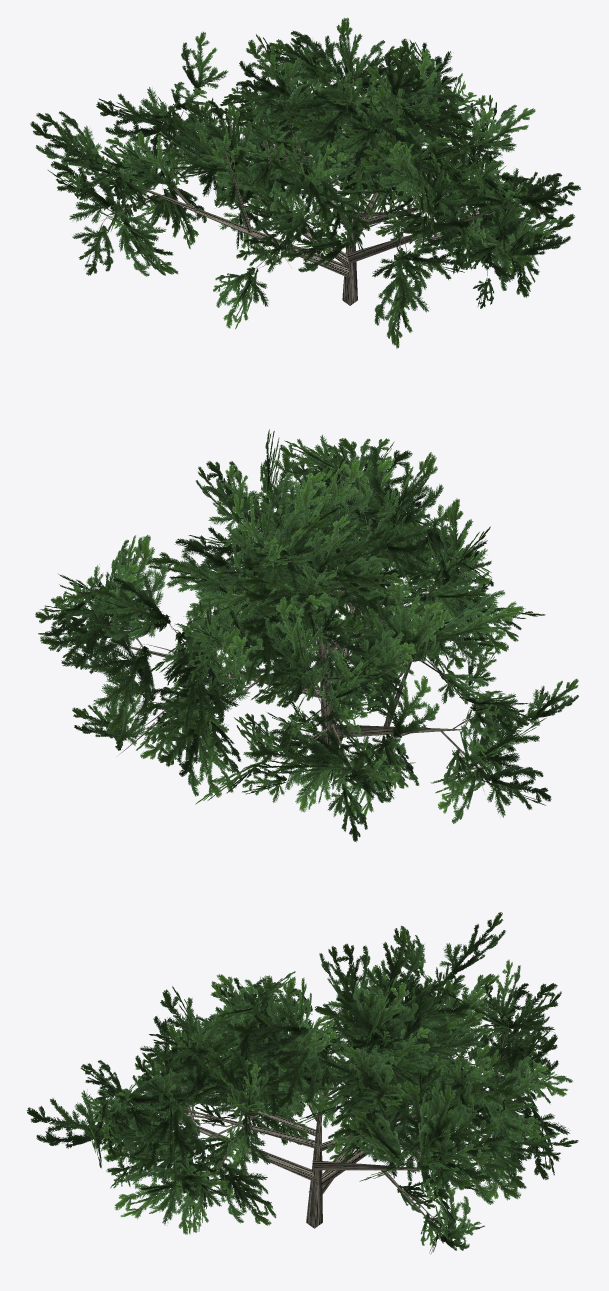
Rendered from tree_LOD1.glb.
3 views of the same model, one above another, from view 1: azimuth 30°, elevation 25°; view 2: azimuth 150°, elevation 25°; view 3: azimuth 270°, elevation 25° (orthographic). The views are drawn at different scales.
Visible parts, largest first — view 1: Leaves_LOD1, Branches_LOD1; view 2: Leaves_LOD1, Branches_LOD1; view 3: Leaves_LOD1, Branches_LOD1.
Boxes of the visible parts, box(x1,y1,x2,y2) form: Leaves_LOD1: box(30, 17, 581, 348); Branches_LOD1: box(94, 79, 522, 305); Leaves_LOD1: box(35, 429, 578, 842); Branches_LOD1: box(89, 459, 529, 793); Leaves_LOD1: box(26, 912, 578, 1254); Branches_LOD1: box(102, 973, 531, 1247).
Bounding box in the file's own units: 33.2 × 19.28 × 34.56.
Materials: 2 (2 with a texture image).
